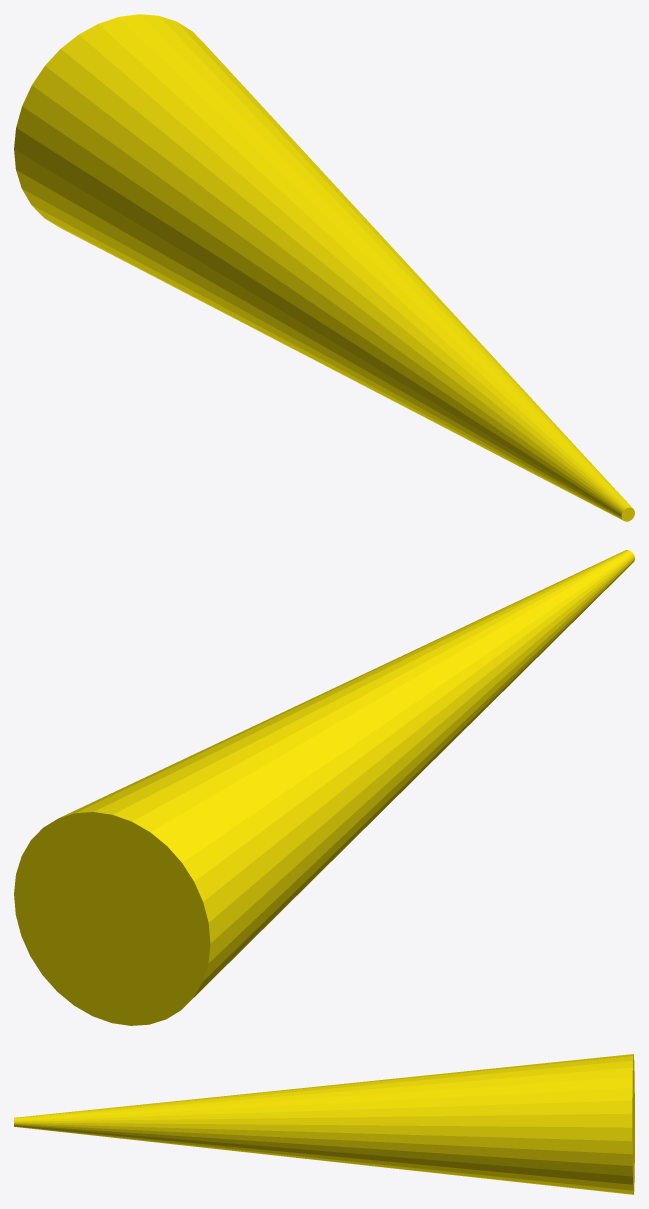
Rendered from PeluruBi.fbx.
The picture shows the model from 3 angles, top to bottom: view 1: azimuth 30°, elevation 25°; view 2: azimuth 150°, elevation 25°; view 3: azimuth 270°, elevation 25°; orthographic projection. The views are drawn at different scales.
Parts seen in each view (by area): view 1: Cylinder; view 2: Cylinder; view 3: Cylinder.
Part boxes in pixels (box(x1,y1,x2,y2)): Cylinder: box(14, 14, 634, 521); Cylinder: box(14, 550, 634, 1025); Cylinder: box(14, 1054, 634, 1194).
Size of the model in its own units: 47.17 by 47.17 by 208.
